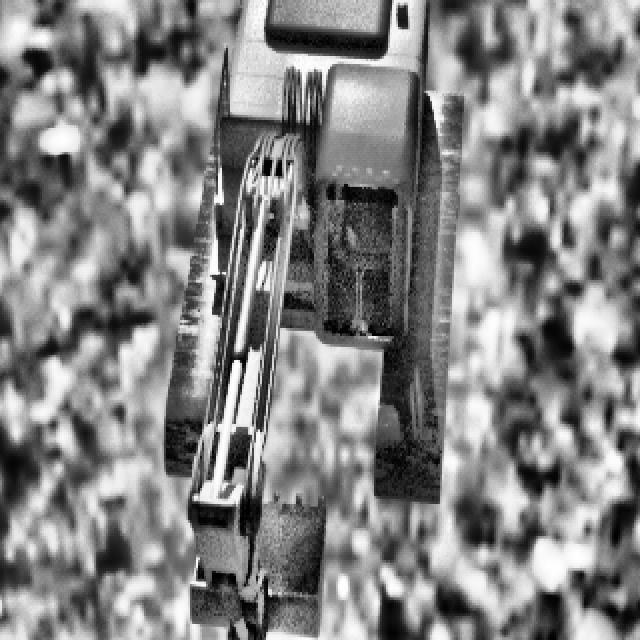excavator: (162, 0, 462, 640)
